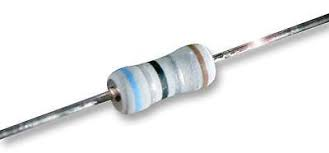resistor: (88, 27, 243, 125)
